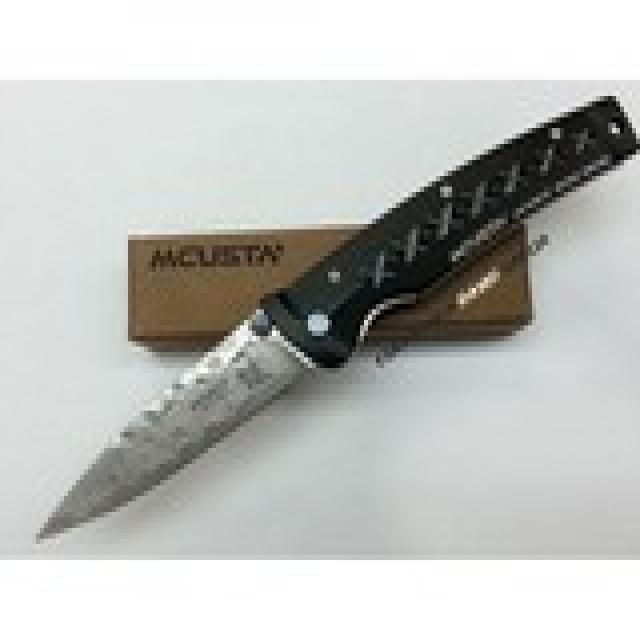Knife: (28, 89, 640, 551)
